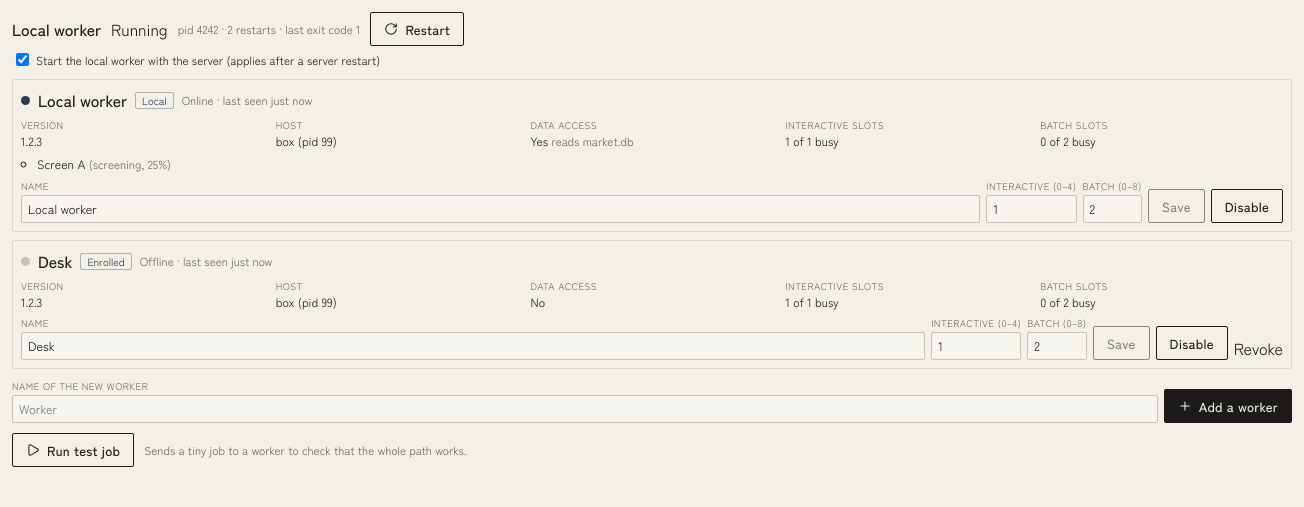
WorkersPanel › restarts the local worker and saves the launch setting
This screenshot has width=1304, height=507.
Check: the text "Desk" is shown, box [38,249,72,273]
Click the button "Restart": (417, 29) [370,12,464,46]
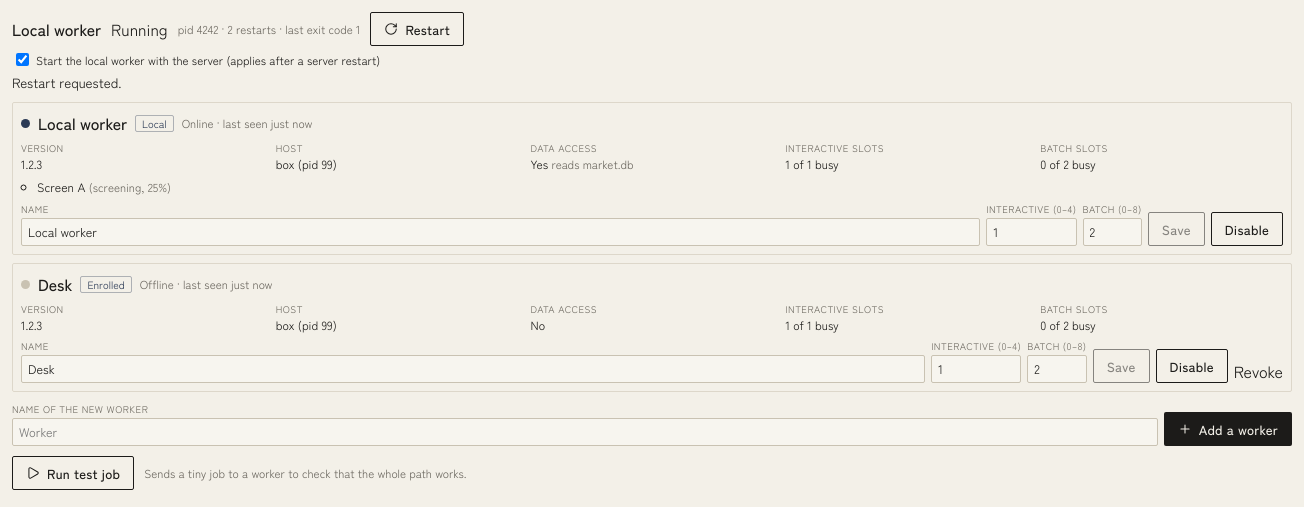
Click the checkbox labelled "Start the local worker with the server": (22, 60) [16,53,29,66]
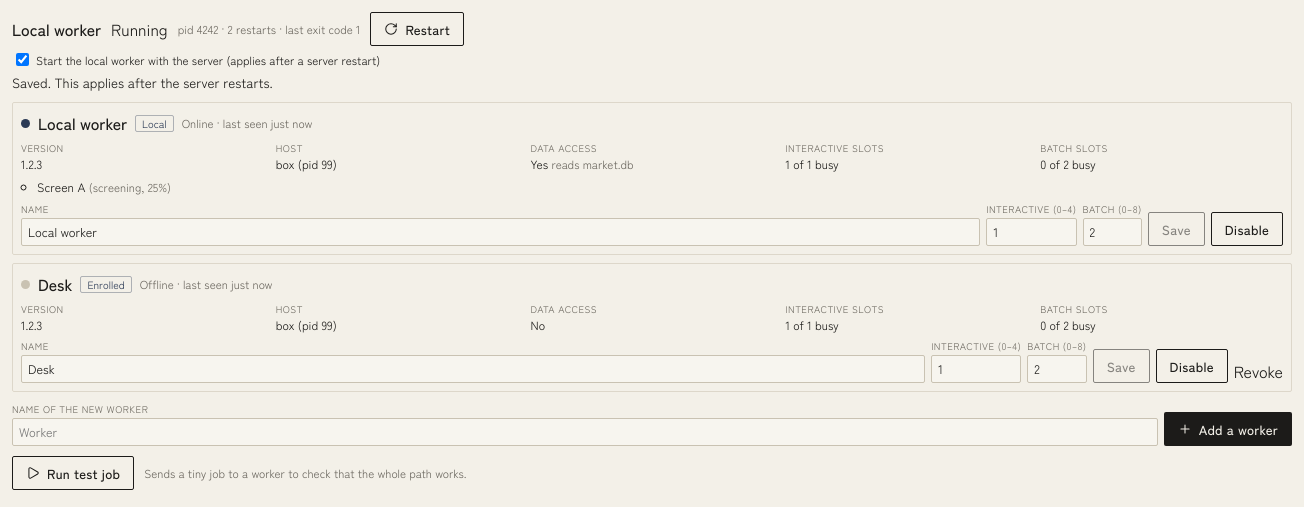
Check: the text "Saved. This applies after the server restarts." is shown, box [12,73,273,92]
